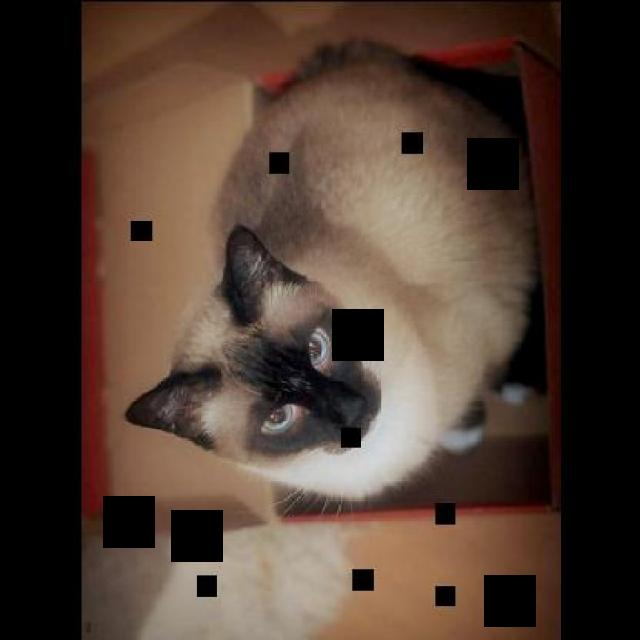unauthorized: (123, 34, 542, 515)
